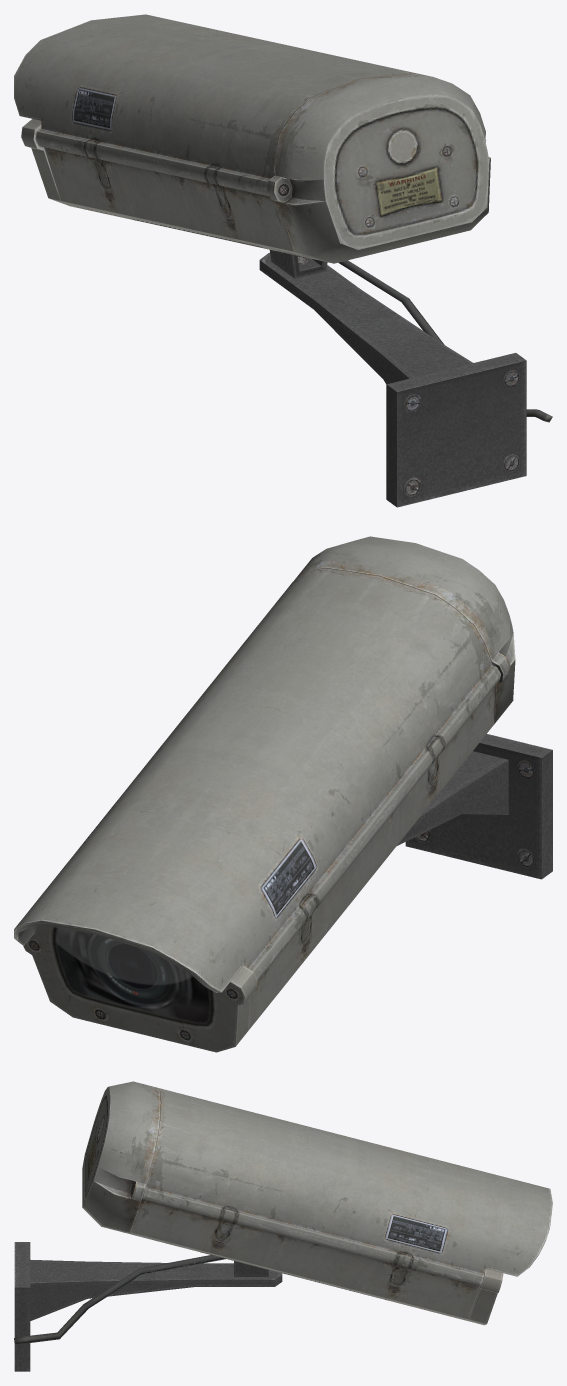
The model's file is Camera.FBX.
The picture shows the model from 3 angles, top to bottom: view 1: azimuth 30°, elevation 25°; view 2: azimuth 150°, elevation 25°; view 3: azimuth 270°, elevation 25°; orthographic projection. The views are drawn at different scales.
Visible parts, largest first — view 1: Camera; view 2: Camera; view 3: Camera.
Boxes of the visible parts, <box> form: Camera: <box>14,14,552,507</box>; Camera: <box>14,536,552,1052</box>; Camera: <box>14,1081,552,1371</box>.
Bounding box in the file's own units: 13.85 × 41.97 × 21.72.
Materials: 1 (1 with a texture image).
